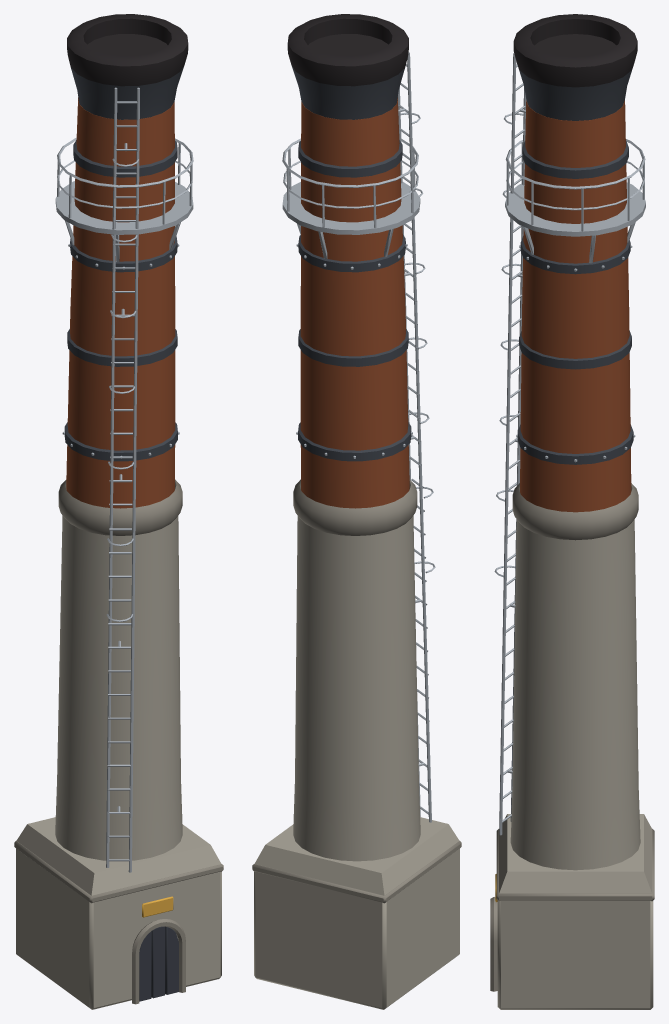
Rendered from prop_smokestack.glb.
3 views of the same model, side by side, from view 1: azimuth 30°, elevation 25°; view 2: azimuth 150°, elevation 25°; view 3: azimuth 270°, elevation 25° (orthographic).
Visible parts, largest first — view 1: Smokestack; view 2: Smokestack; view 3: Smokestack.
Boxes of the visible parts, box(x1,y1,x2,y2) form: Smokestack: box(14, 14, 223, 1009); Smokestack: box(252, 14, 461, 1009); Smokestack: box(490, 14, 654, 1009).
Size of what is drawn, in the model's own units: 3 by 19.82 by 3.12.
